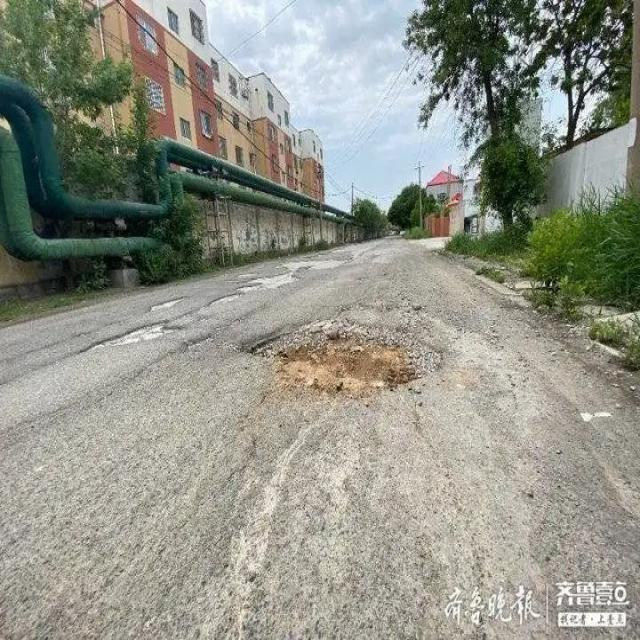Pothole: (265, 334, 442, 406)
